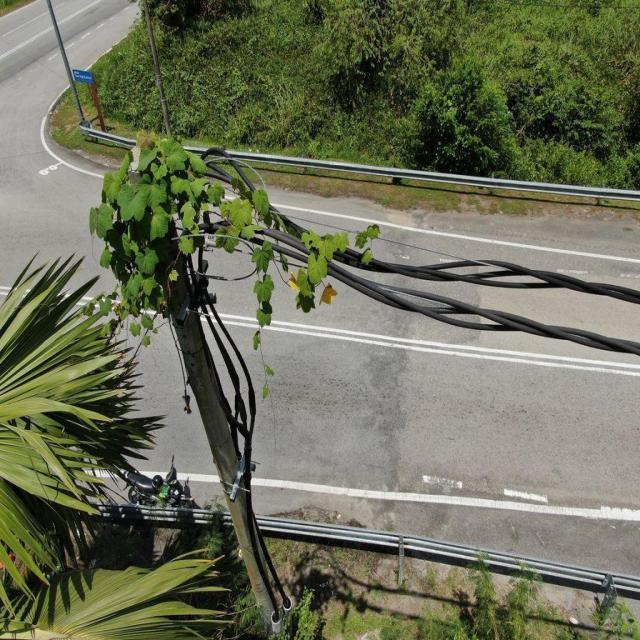critical vegetation: (77, 122, 385, 406)
